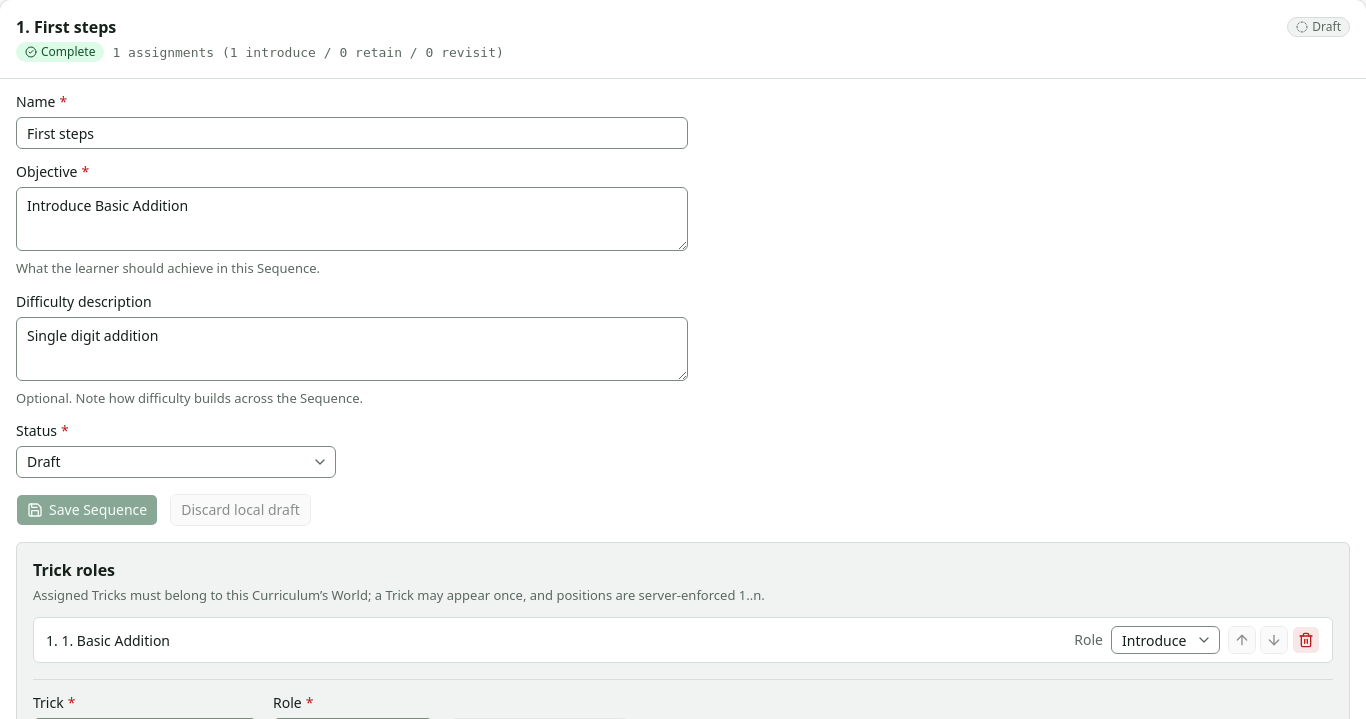
Test case: SequenceEditor › shows an inline error and focuses the name before saving
The image size is (1366, 719).
Clear the field labelled "Name" at [352, 133], box [16,117,688,149]
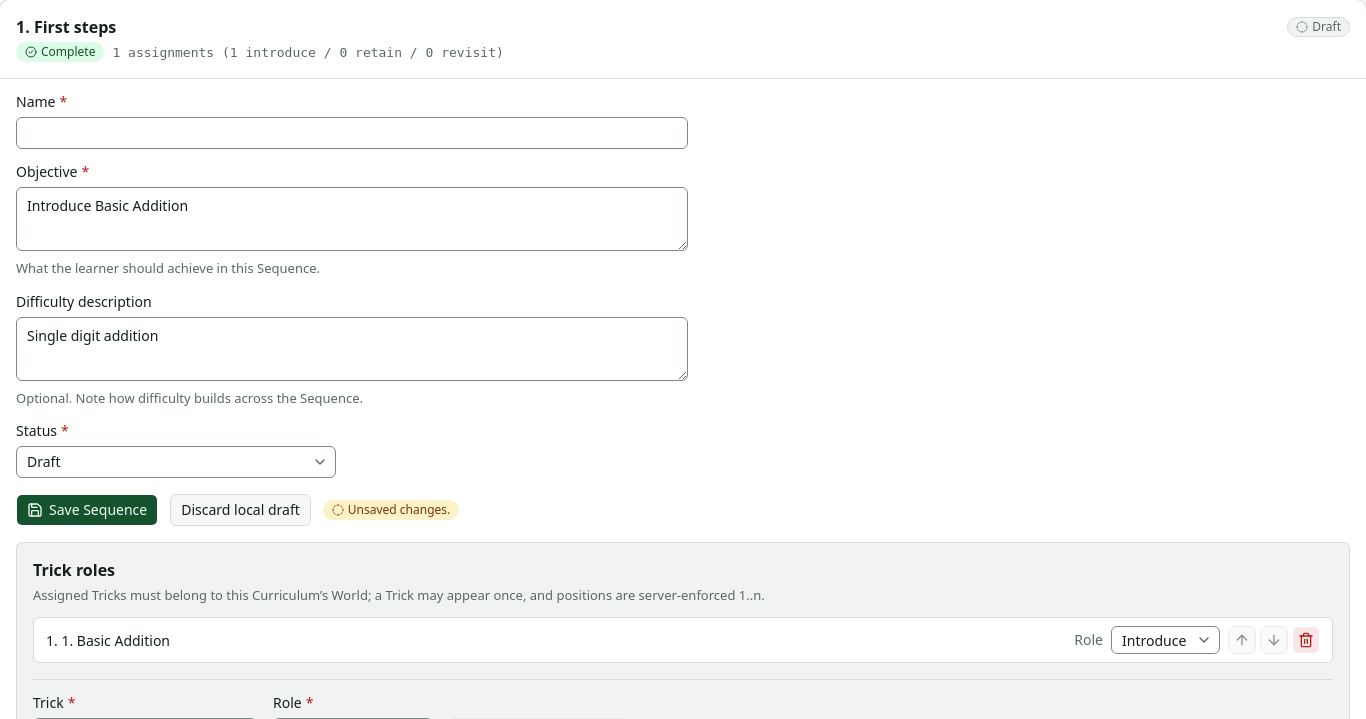
Click the button "Save Sequence" at [87, 510], box [16,494,158,526]
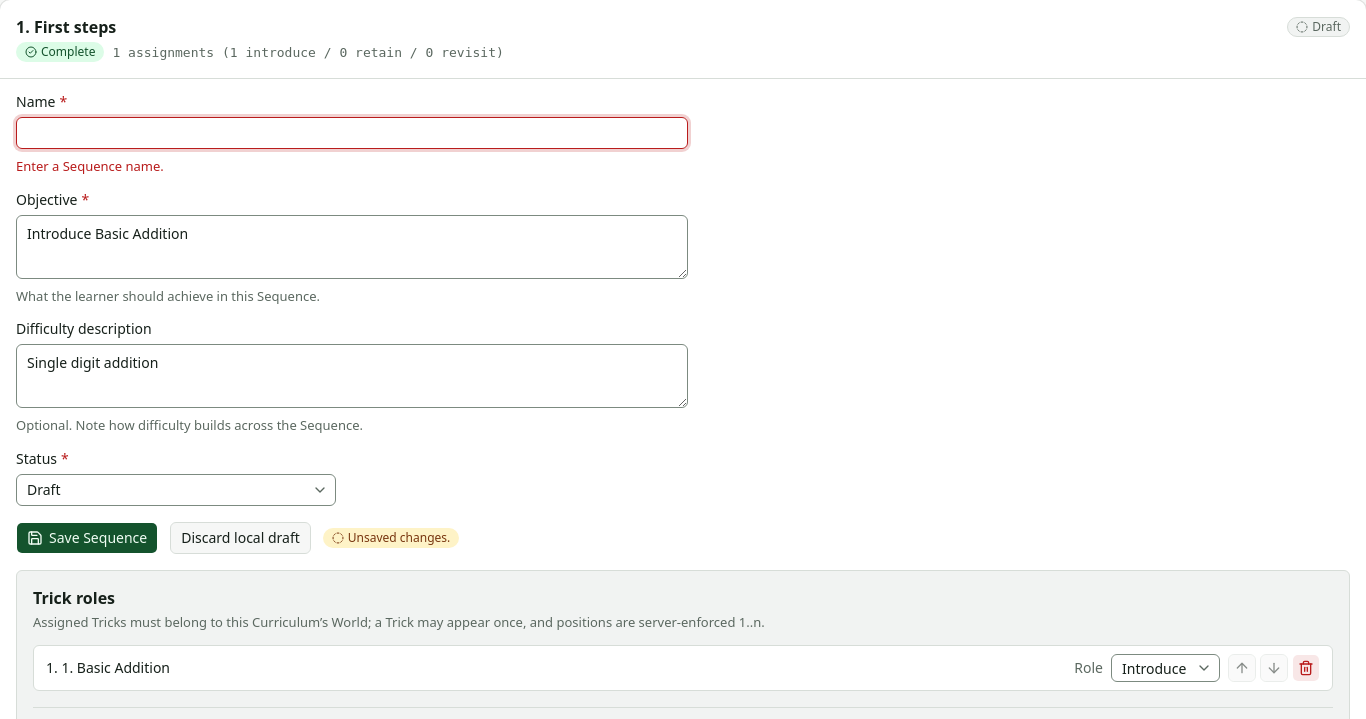
Now the text "Enter a Sequence name." is shown, box [16,157,164,175]
